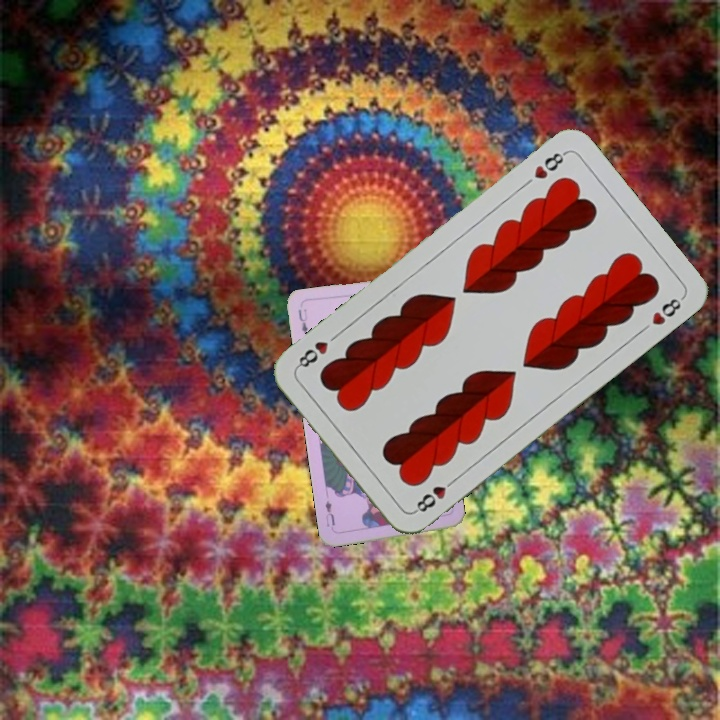EU: (294, 305, 310, 336)
H8: (409, 474, 459, 516), (529, 147, 569, 182)
